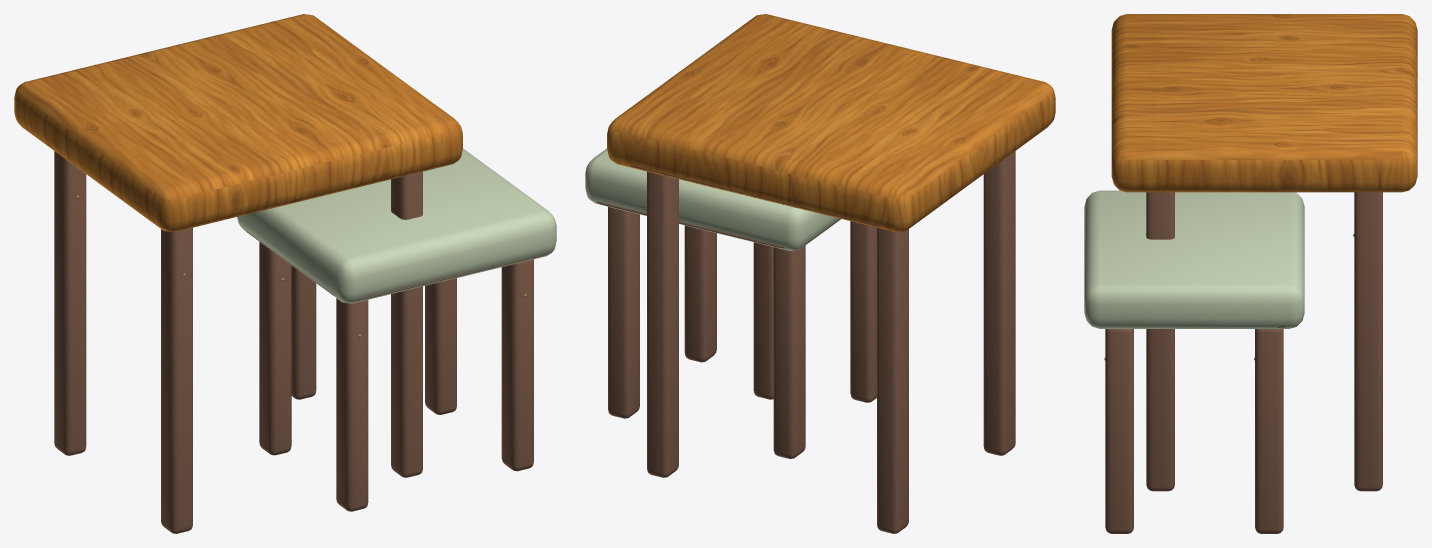
The model's file is nesting-tables.glb.
3 renders of one model, left to right at view 1: azimuth 30°, elevation 25°; view 2: azimuth 150°, elevation 25°; view 3: azimuth 270°, elevation 25°, orthographic. The views are drawn at different scales.
Parts seen in each view (by area): view 1: nesting-tables; view 2: nesting-tables; view 3: nesting-tables.
Part boxes in pixels (x1=…): nesting-tables: x1=14, y1=14, x2=556, y2=533; nesting-tables: x1=585, y1=14, x2=1055, y2=533; nesting-tables: x1=1084, y1=14, x2=1417, y2=533.
Size of the model in its own units: 0.62 by 0.56 by 0.48.
4 materials, 1 textured.
